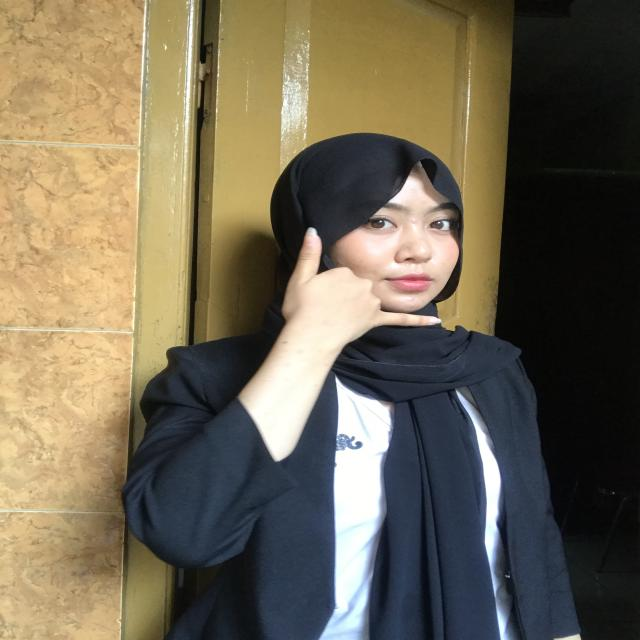telpon: (251, 220, 466, 356)
